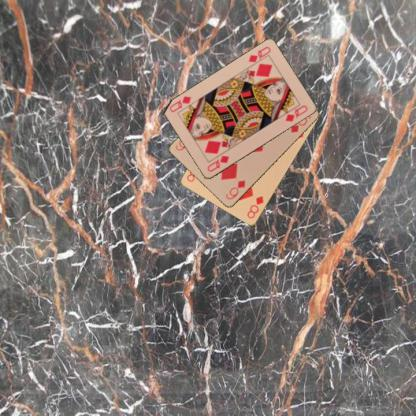6d: (223, 177, 247, 201)
8d: (245, 194, 266, 220)
Qd: (246, 44, 272, 69), (204, 153, 230, 173)
